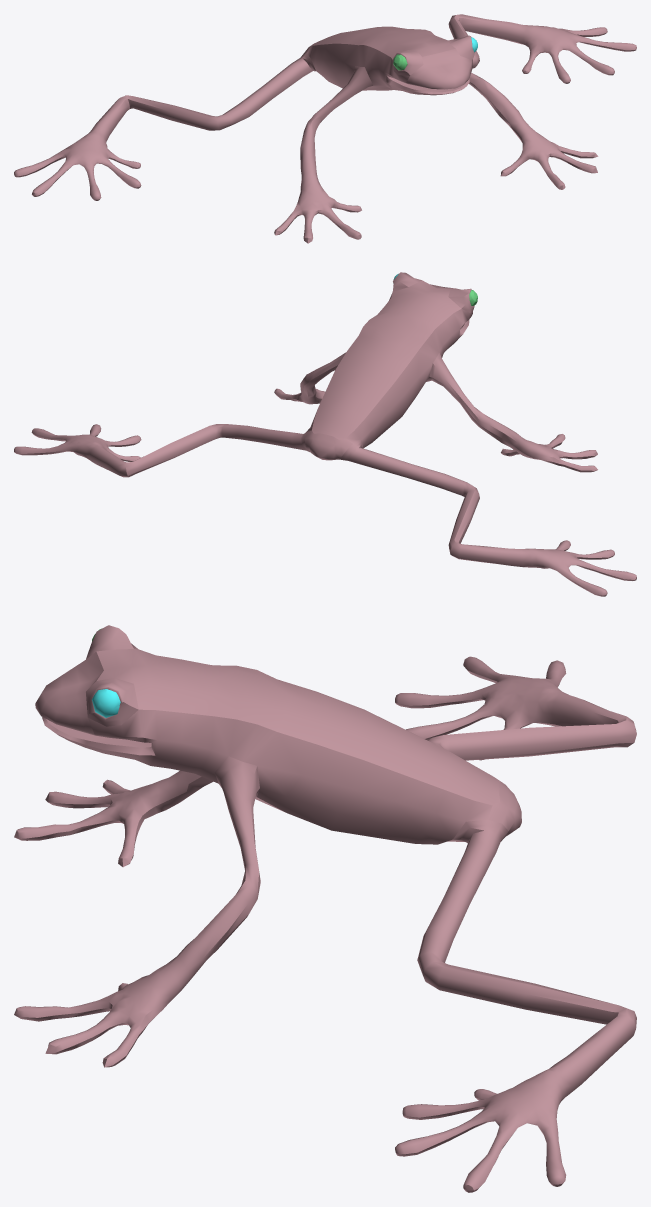
3 renders of one model, top to bottom at view 1: azimuth 30°, elevation 25°; view 2: azimuth 150°, elevation 25°; view 3: azimuth 270°, elevation 25°, orthographic. The views are drawn at different scales.
Parts seen in each view (by area): view 1: split_parent_1; view 2: split_parent_1; view 3: split_parent_1.
Part boxes in pixels (left/top/right/bottom): split_parent_1: left=14, top=14, right=636, bottom=243; split_parent_1: left=14, top=272, right=636, bottom=596; split_parent_1: left=14, top=625, right=636, bottom=1192.
Size of the model in its own units: 1 by 0.2428 by 0.4978.
